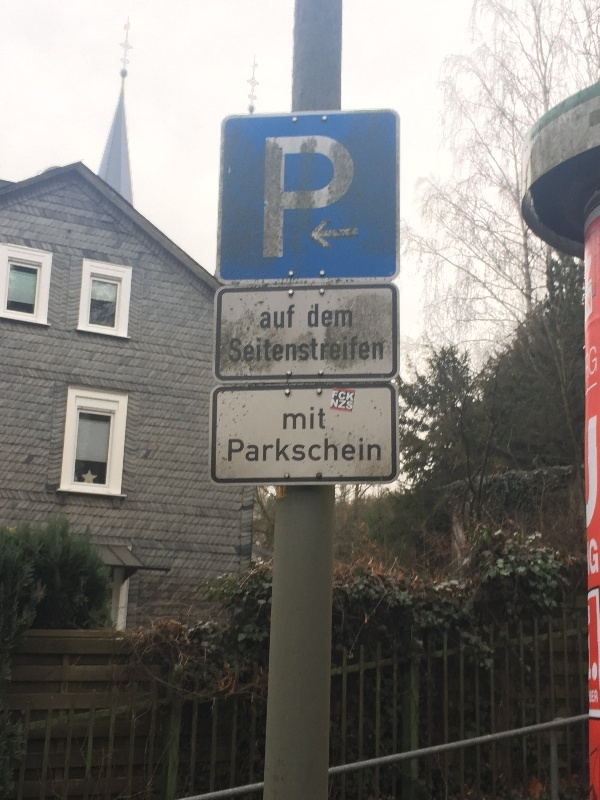text: (273, 134, 288, 261), (289, 134, 304, 261), (305, 134, 320, 261), (321, 134, 336, 261), (337, 134, 352, 261), (265, 134, 272, 261), (585, 413, 592, 530), (593, 413, 598, 530), (241, 436, 256, 464), (257, 436, 272, 464), (273, 436, 288, 464), (289, 436, 304, 464), (305, 436, 320, 464), (321, 436, 336, 464), (337, 436, 352, 464), (353, 436, 368, 464), (241, 337, 256, 365), (257, 337, 272, 365), (273, 337, 288, 365), (289, 337, 304, 365), (305, 337, 320, 365), (321, 337, 336, 365), (337, 337, 352, 365), (353, 337, 368, 365), (369, 337, 384, 365), (289, 404, 304, 431), (305, 404, 320, 431), (337, 304, 353, 329), (273, 305, 288, 331), (321, 304, 336, 329), (369, 436, 382, 464), (228, 436, 240, 464), (261, 305, 272, 331), (230, 337, 240, 365), (309, 304, 320, 329), (593, 629, 598, 682), (353, 134, 355, 261), (585, 345, 592, 381), (593, 538, 599, 576), (588, 629, 592, 682), (587, 538, 592, 576), (289, 305, 296, 331), (337, 390, 352, 402), (337, 400, 352, 411), (585, 292, 592, 315), (593, 345, 597, 381), (283, 404, 288, 431), (321, 404, 326, 431), (588, 605, 592, 627), (593, 689, 599, 703), (332, 400, 336, 411), (589, 689, 592, 703), (334, 390, 336, 402), (353, 390, 354, 402), (353, 400, 354, 411)
